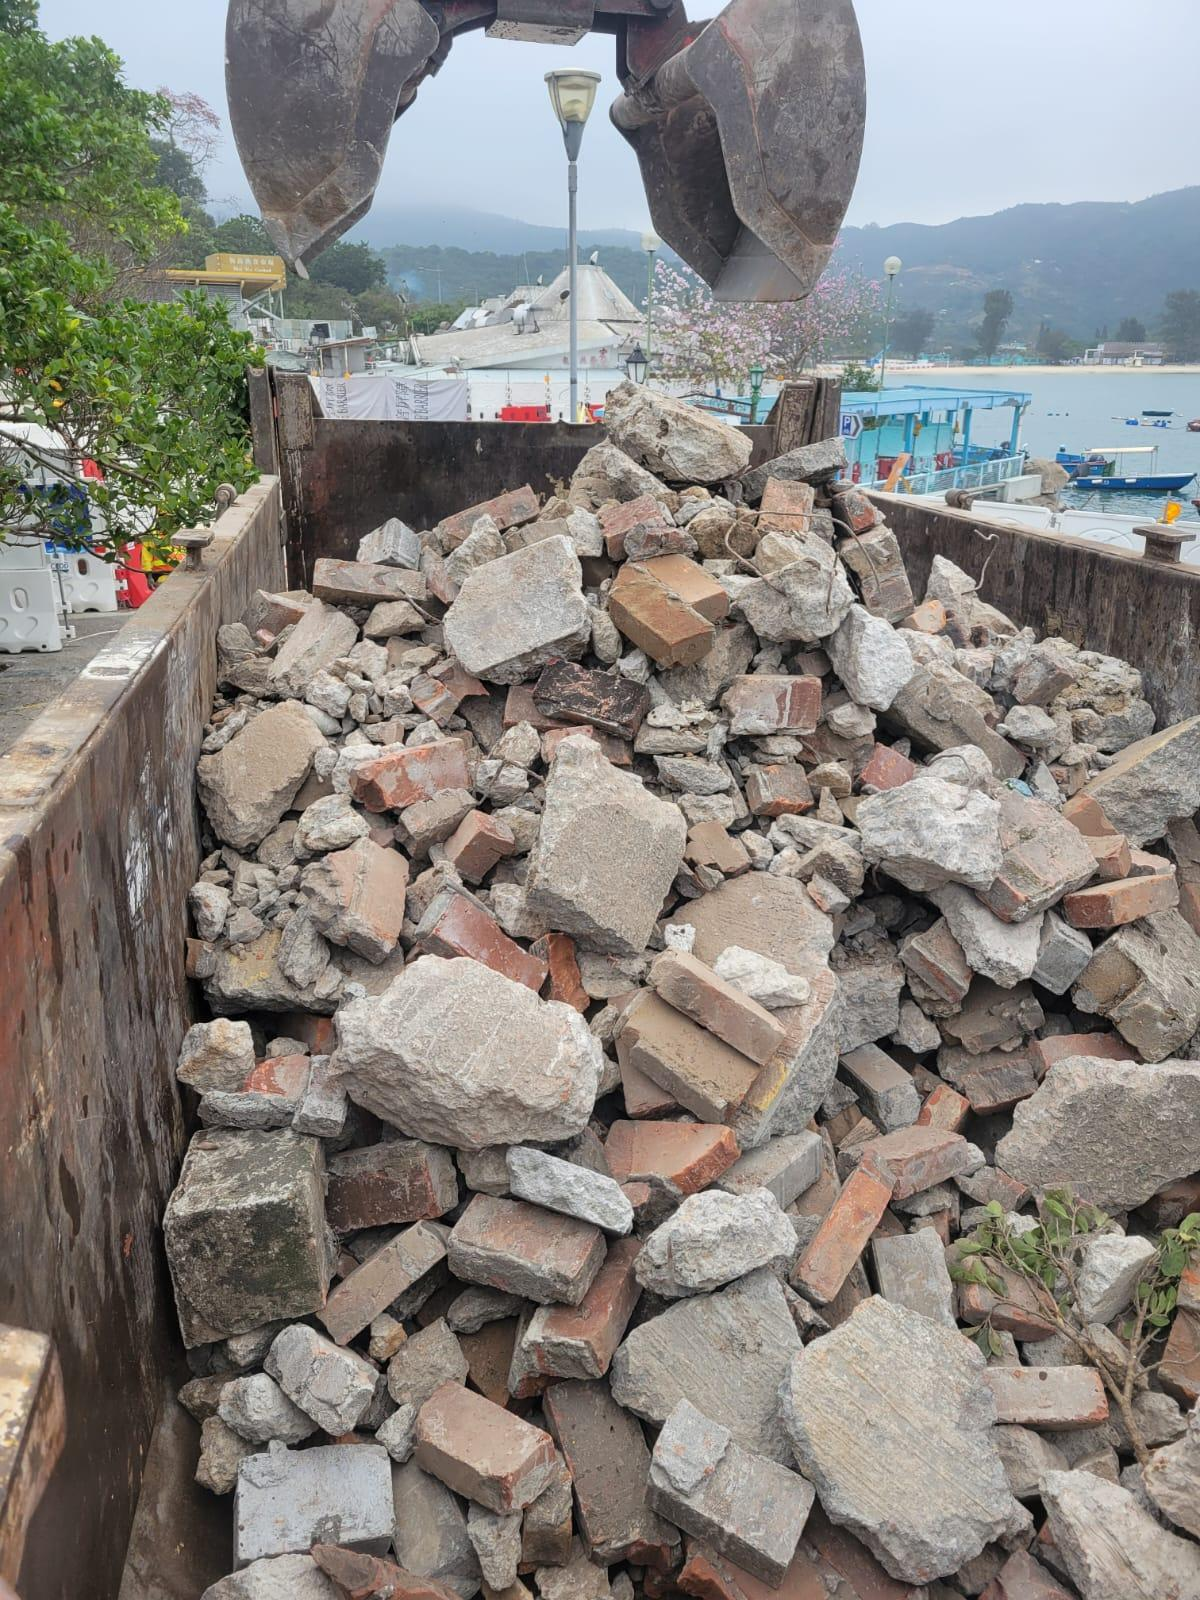dry: (190, 490, 1200, 1600)
